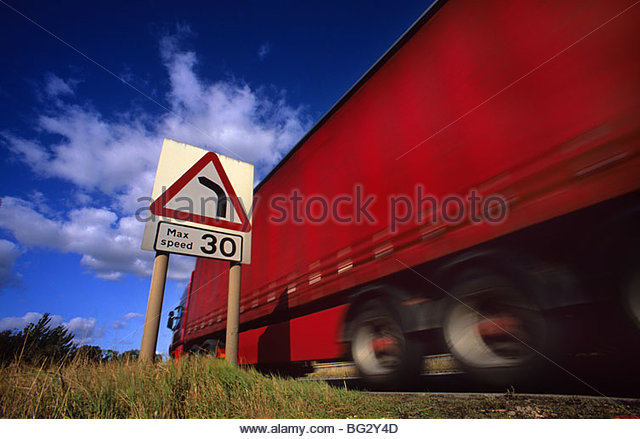Bend_to_left: (152, 150, 254, 236)
